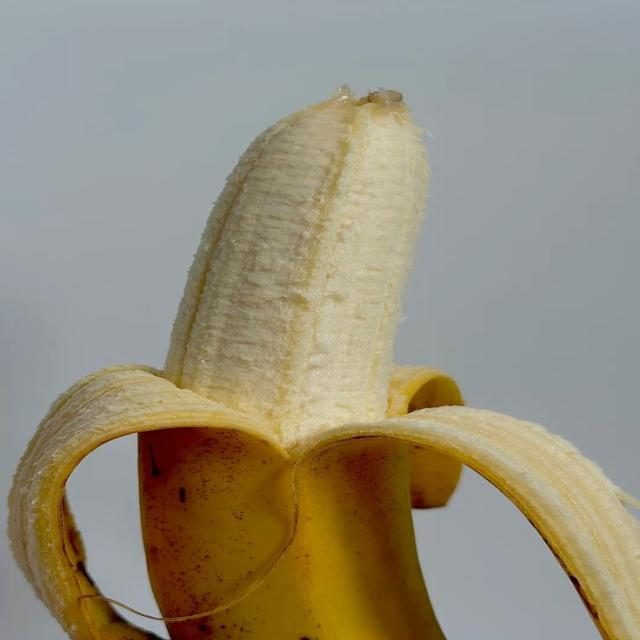banana: (10, 91, 639, 639)
